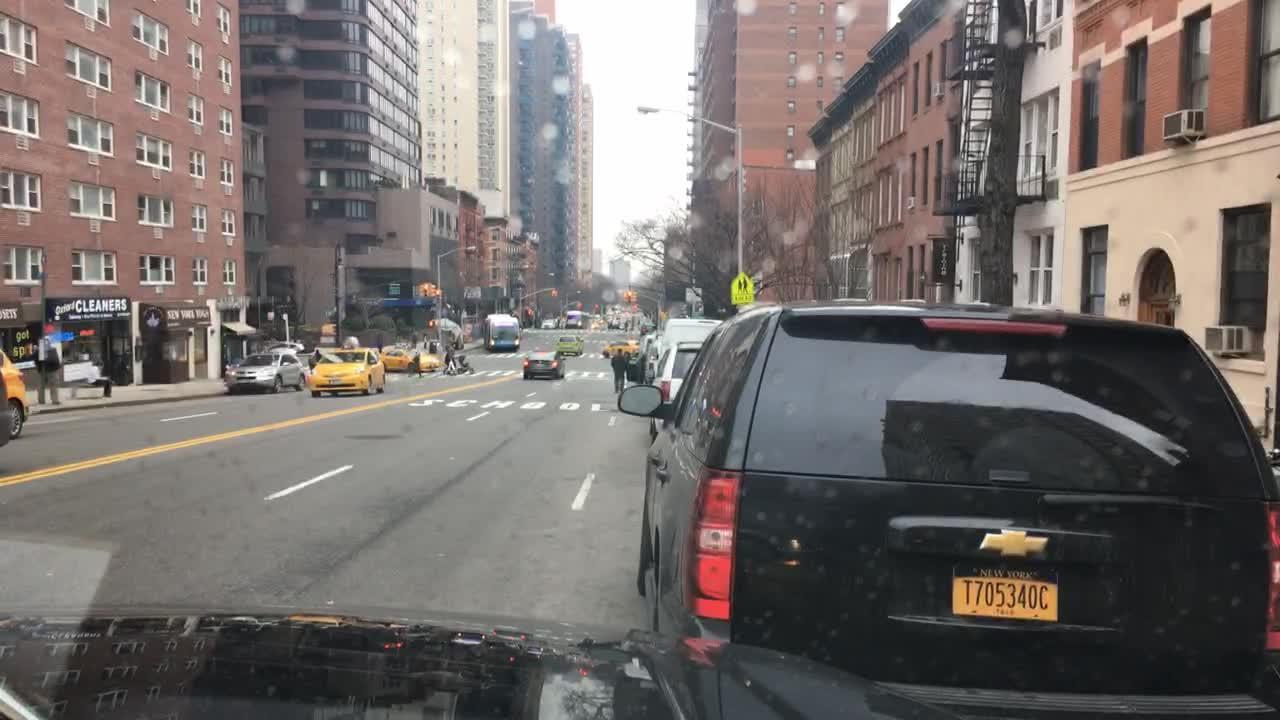chevrolet: (961, 520, 1065, 577)
